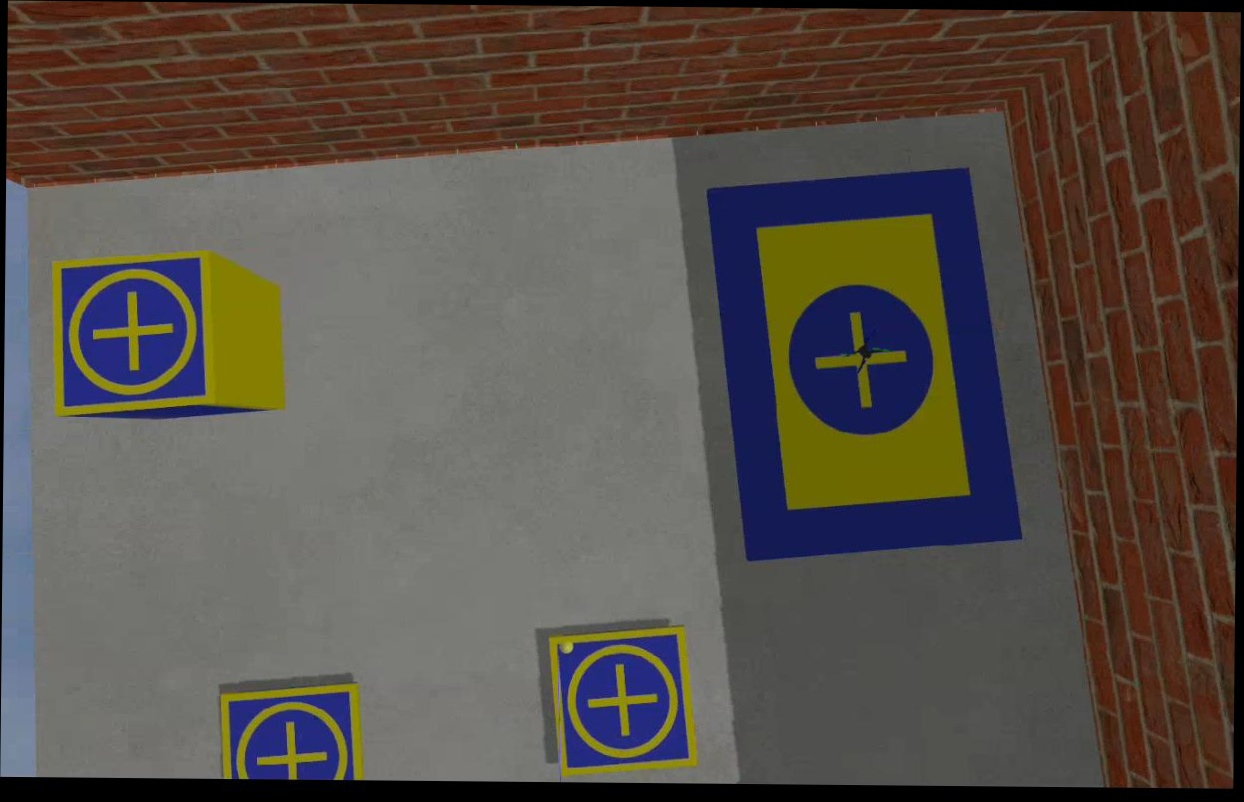large_base: (699, 168, 1026, 565)
small_base: (52, 251, 215, 419), (543, 623, 698, 778), (219, 677, 362, 782)
